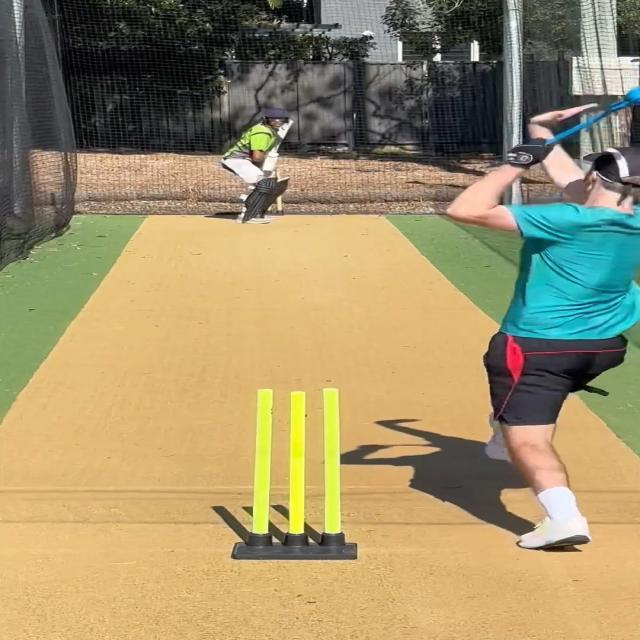stump: (228, 384, 360, 562)
